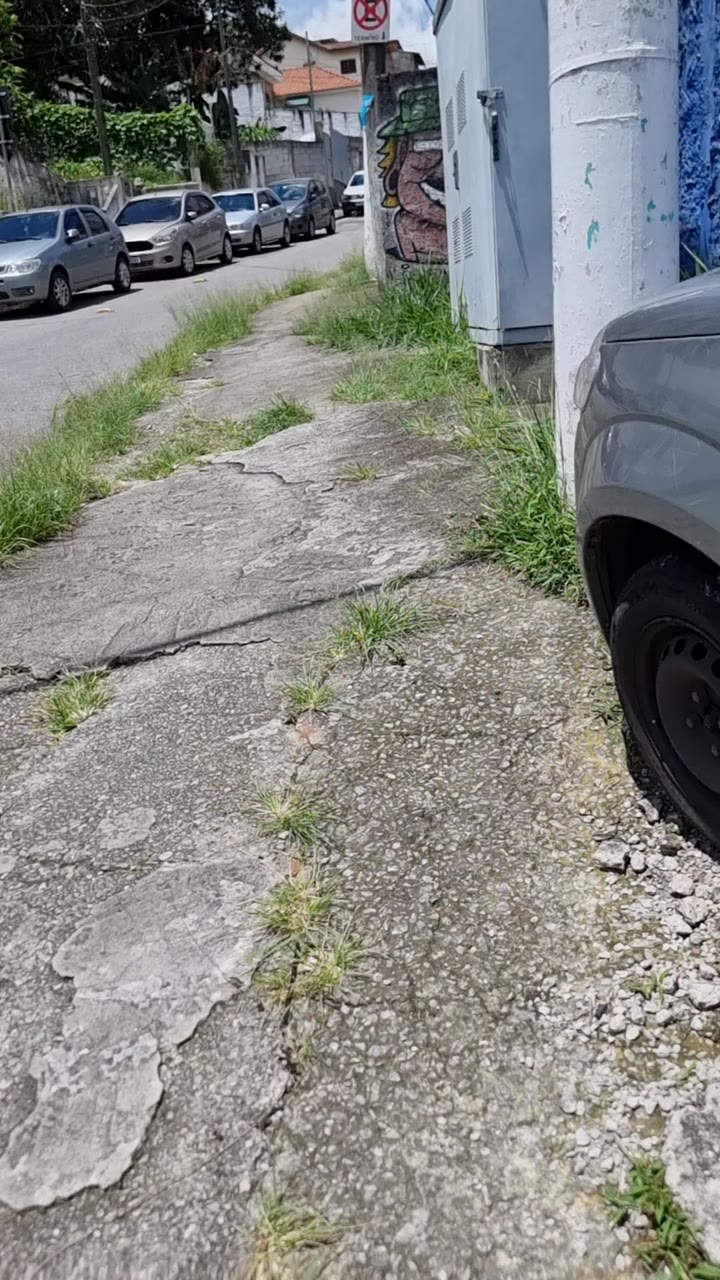desnivel: (0, 896, 194, 1229)
obstaculo: (619, 320, 720, 845), (569, 0, 662, 538), (446, 0, 576, 346)
